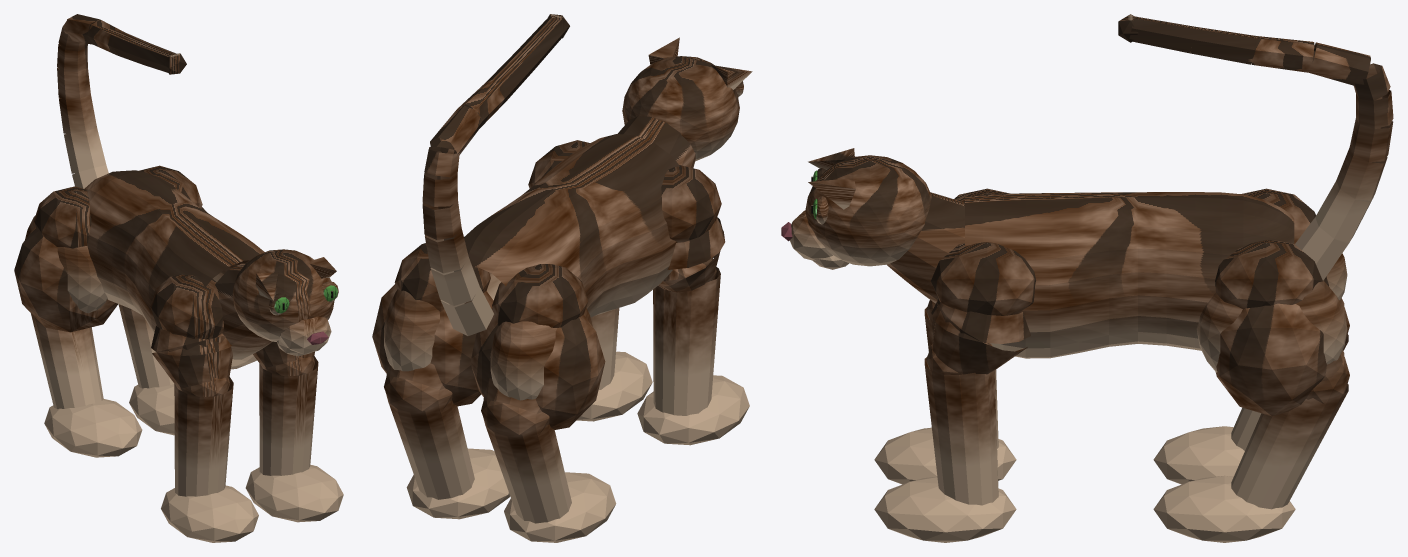
Rendered from cat.glb.
3 views of the same model, side by side, from view 1: azimuth 30°, elevation 25°; view 2: azimuth 150°, elevation 25°; view 3: azimuth 270°, elevation 25° (orthographic). The views are drawn at different scales.
Parts seen in each view (by area): view 1: body, leg_fl, leg_hl, leg_fr, head, tail, leg_hr; view 2: body, leg_hl, leg_fl, leg_hr, tail, head, leg_fr; view 3: body, leg_hr, leg_fr, tail, head, leg_hl, leg_fl.
Part boxes in pixels (<box>): body: <box>25,170,272,369</box>; leg_fl: <box>150,274,258,542</box>; leg_hl: <box>14,186,142,457</box>; leg_fr: <box>245,341,343,522</box>; head: <box>232,249,338,356</box>; tail: <box>57,14,186,188</box>; leg_hr: <box>118,165,206,435</box>; body: <box>384,116,695,400</box>; leg_hl: <box>471,264,616,542</box>; leg_fl: <box>637,165,749,445</box>; leg_hr: <box>372,243,510,519</box>; tail: <box>422,14,569,335</box>; head: <box>622,37,752,161</box>; leg_fr: <box>528,140,652,421</box>; body: <box>887,192,1347,372</box>; leg_hr: <box>1153,240,1349,542</box>; leg_fr: <box>874,242,1035,542</box>; tail: <box>1118,14,1393,280</box>; head: <box>781,148,931,269</box>; leg_hl: <box>1153,188,1349,484</box>; leg_fl: <box>874,188,1016,484</box>.
Size of the model in its own units: 0.4725 by 0.9737 by 1.1.
Materials: 1 (1 with a texture image).
